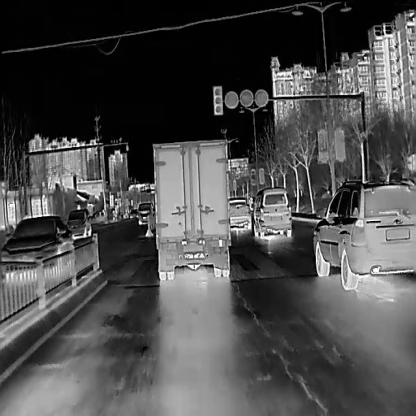car: (311, 178, 415, 289), (0, 214, 74, 276), (252, 184, 292, 235), (64, 207, 91, 238), (227, 196, 251, 229), (136, 201, 151, 224)
truck: (151, 137, 231, 282)
